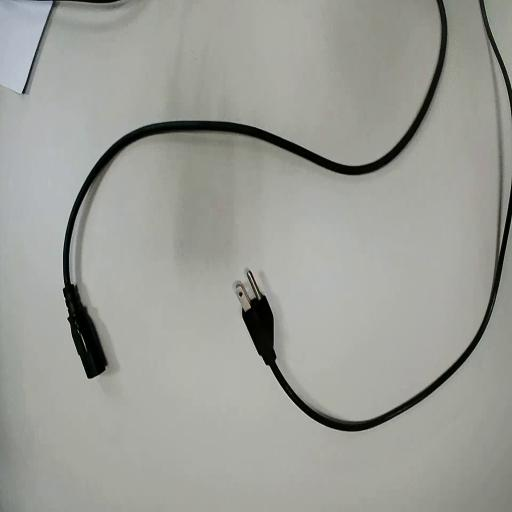wire: (64, 0, 446, 377), (243, 194, 511, 430)
